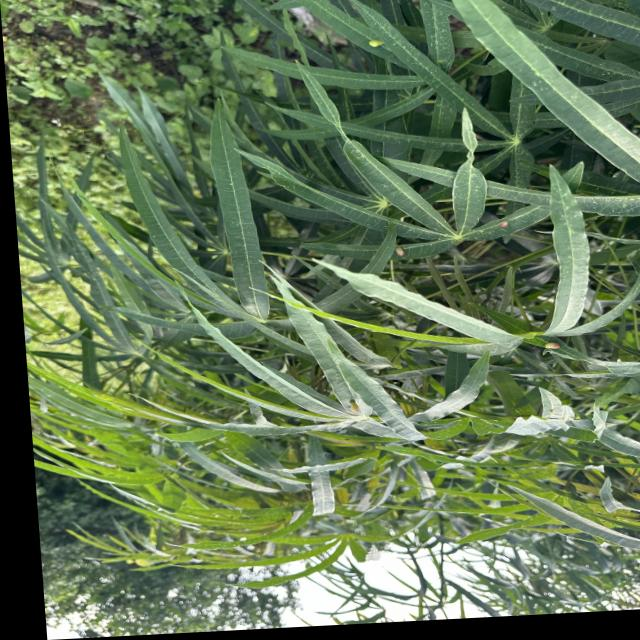Mosca: (338, 388, 379, 434), (360, 33, 405, 65), (383, 237, 420, 269), (538, 332, 566, 363), (496, 210, 519, 234)
